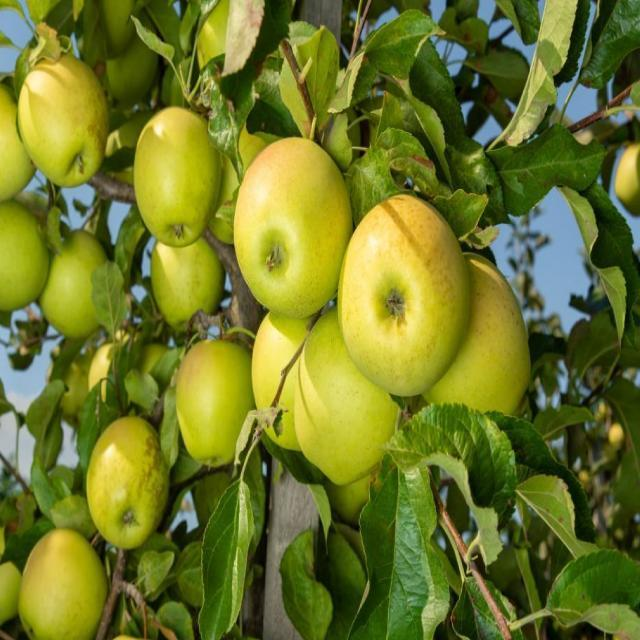Green Apple: (341, 183, 456, 383), (236, 141, 348, 315), (432, 252, 539, 425), (302, 319, 392, 474), (249, 299, 327, 439), (25, 522, 108, 640), (92, 418, 169, 545), (137, 112, 213, 237), (24, 59, 101, 170), (177, 349, 245, 469), (50, 222, 117, 330), (154, 225, 217, 330), (97, 18, 163, 110), (1, 211, 53, 312), (1, 90, 35, 203), (88, 334, 137, 402), (88, 1, 141, 62), (1, 517, 25, 618), (55, 362, 88, 413), (614, 148, 640, 206), (141, 346, 168, 396), (105, 631, 168, 640)
